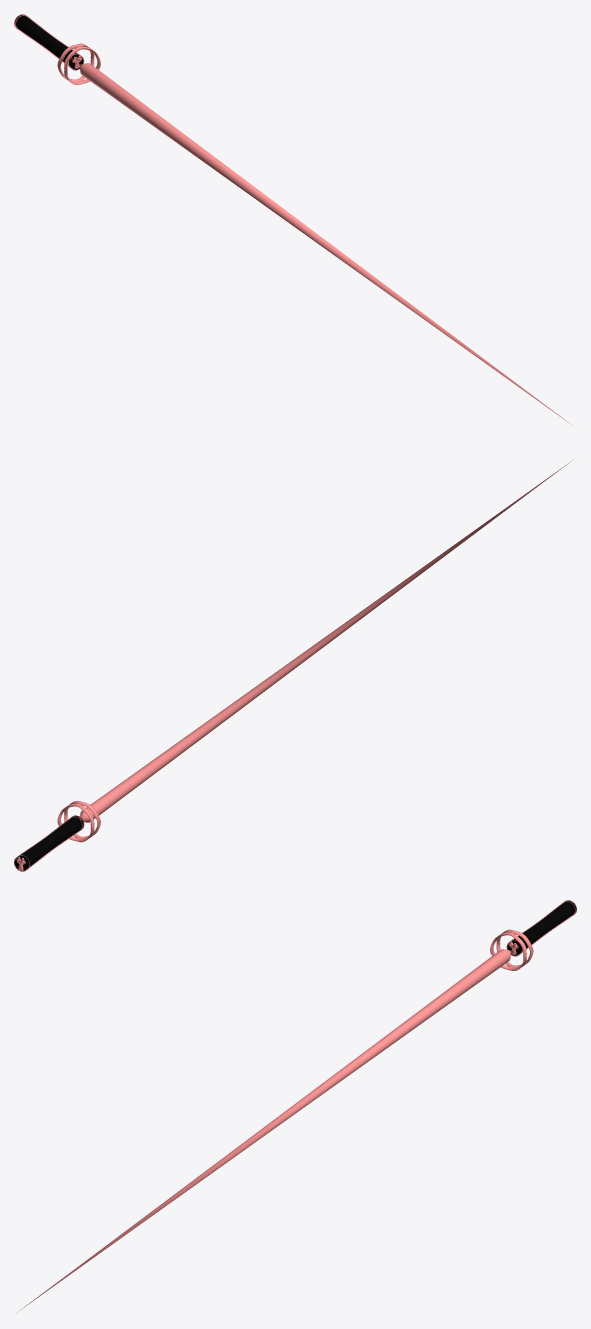
File: ko-monkey-3.glb
The picture shows the model from 3 angles, top to bottom: view 1: azimuth 30°, elevation 25°; view 2: azimuth 150°, elevation 25°; view 3: azimuth 330°, elevation 25°; orthographic projection.
Visible parts, largest first — view 1: Left__merged__Glow_mat_red__0, Left__Cylinder.002__Handle_mat__1; view 2: Left__merged__Glow_mat_red__0, Left__Cylinder.002__Handle_mat__1; view 3: Left__merged__Glow_mat_red__0, Left__Cylinder.002__Handle_mat__1.
Boxes of the visible parts, box(x1,y1,x2,y2) form: Left__merged__Glow_mat_red__0: box(14, 14, 573, 426); Left__Cylinder.002__Handle_mat__1: box(14, 15, 83, 69); Left__merged__Glow_mat_red__0: box(14, 459, 573, 871); Left__Cylinder.002__Handle_mat__1: box(14, 816, 83, 870); Left__merged__Glow_mat_red__0: box(17, 900, 576, 1312); Left__Cylinder.002__Handle_mat__1: box(507, 901, 576, 955).
Bounding box in the file's own units: 0.043 × 0.043 × 1.21.
